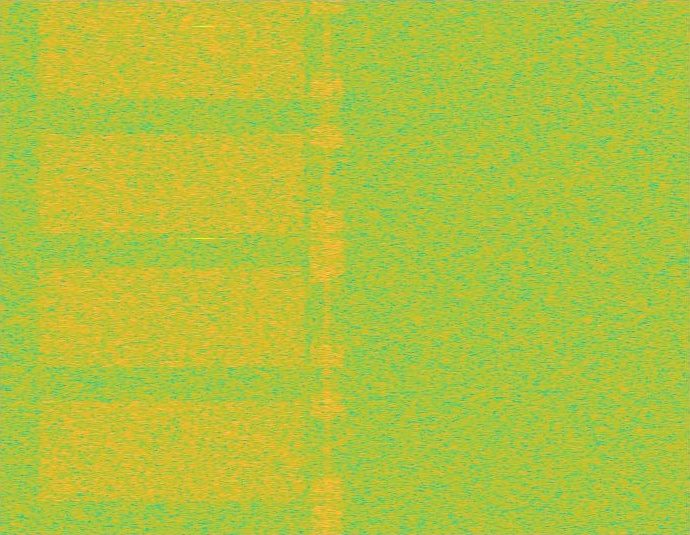5G: (34, 0, 310, 534)
DSSS: (323, 0, 331, 534)
LTE: (310, 0, 344, 534)
Radar: (197, 0, 210, 534)
